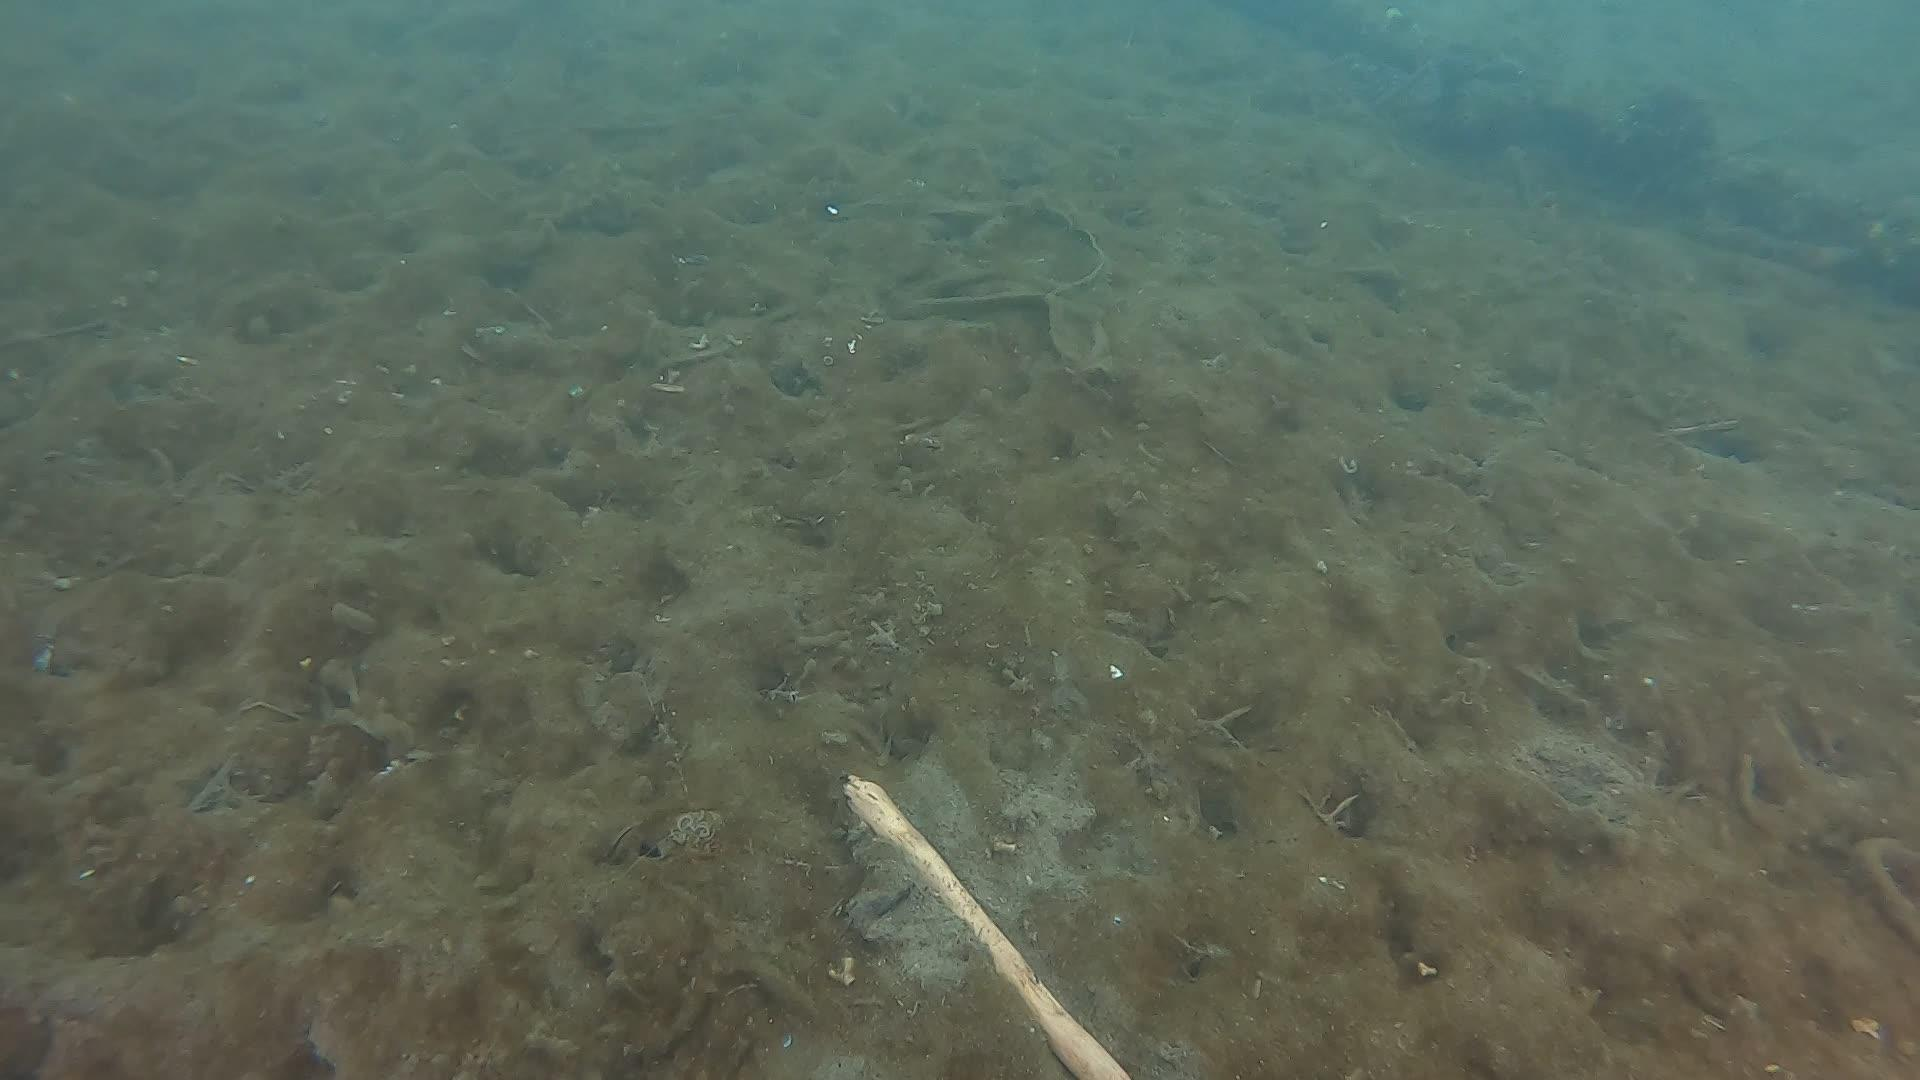wood: (839, 769, 1129, 1080)
